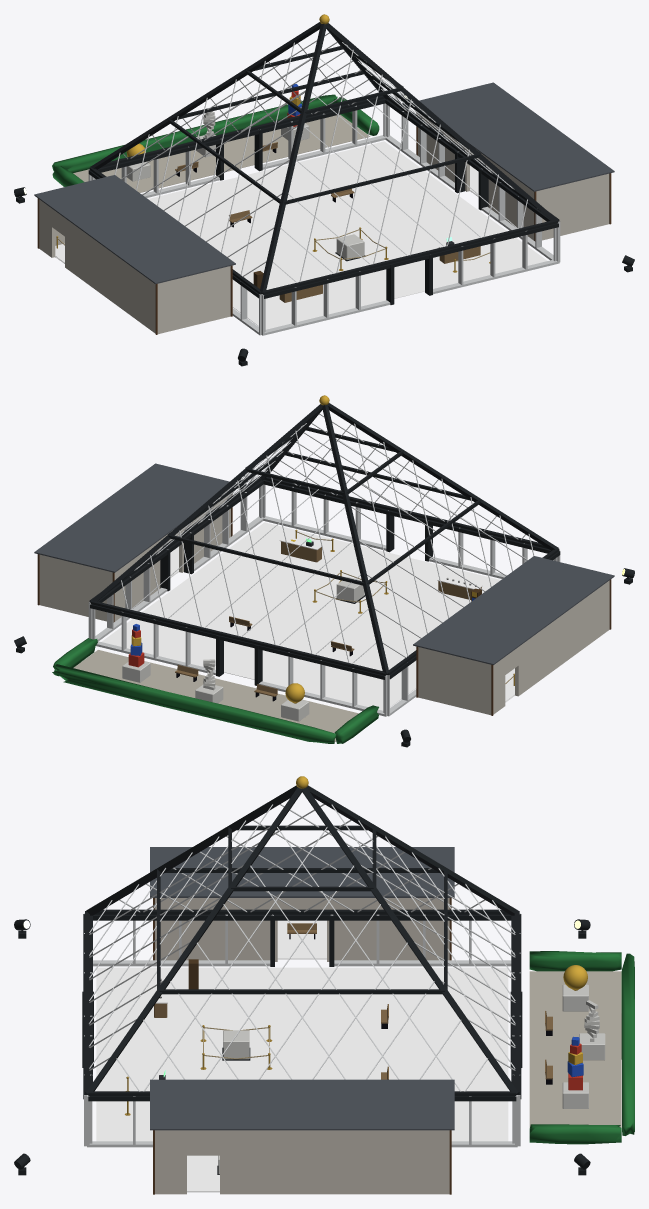
Rendered from tf-gallery-p4.glb.
3 renders of one model, top to bottom at view 1: azimuth 30°, elevation 25°; view 2: azimuth 150°, elevation 25°; view 3: azimuth 270°, elevation 25°, orthographic. The views are drawn at different scales.
Parts seen in each view (by area): view 1: tf-gallery-p4; view 2: tf-gallery-p4; view 3: tf-gallery-p4.
Boxes of the visible parts, box(x1,y1,x2,y2) form: tf-gallery-p4: box(14, 14, 634, 366); tf-gallery-p4: box(14, 395, 634, 747); tf-gallery-p4: box(14, 776, 634, 1194).
Bounding box in the file's own units: 40.5 × 18.66 × 37.7.
